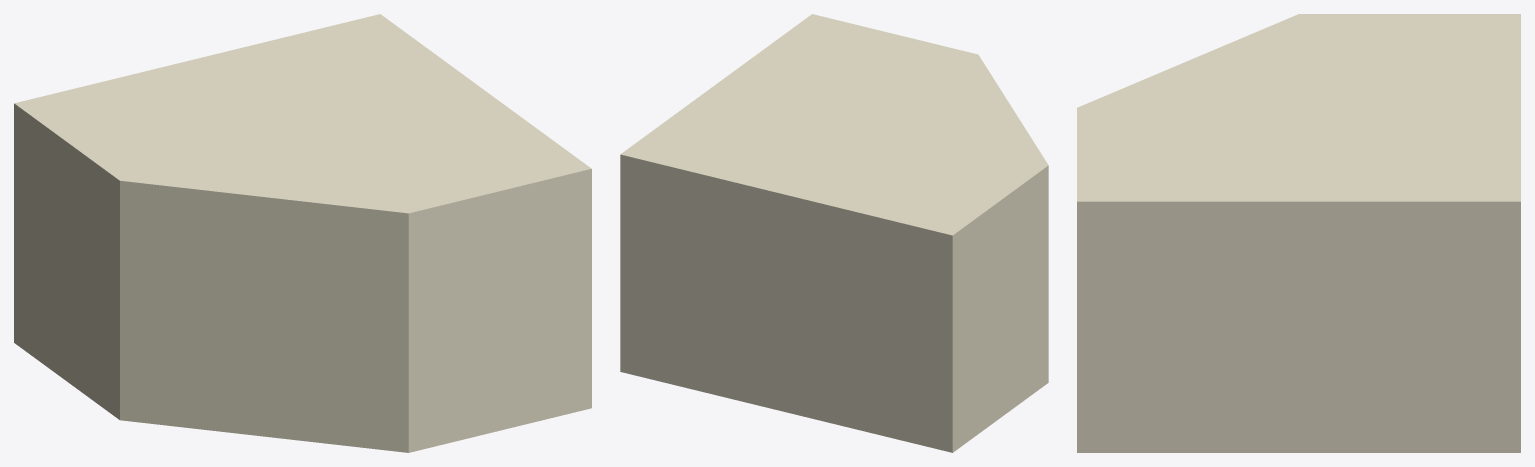
The model's file is modularBuildings_056.fbx.
3 views of the same model, side by side, from view 1: azimuth 30°, elevation 25°; view 2: azimuth 150°, elevation 25°; view 3: azimuth 270°, elevation 25° (orthographic). The views are drawn at different scales.
Parts seen in each view (by area): view 1: Mesh1_Group1 Model; view 2: Mesh1_Group1 Model; view 3: Mesh1_Group1 Model.
Boxes of the visible parts, <box> form: Mesh1_Group1 Model: <box>14,14,591,452</box>; Mesh1_Group1 Model: <box>620,14,1048,452</box>; Mesh1_Group1 Model: <box>1077,14,1520,452</box>.
Size of the model in its own units: 1 by 0.625 by 1.
